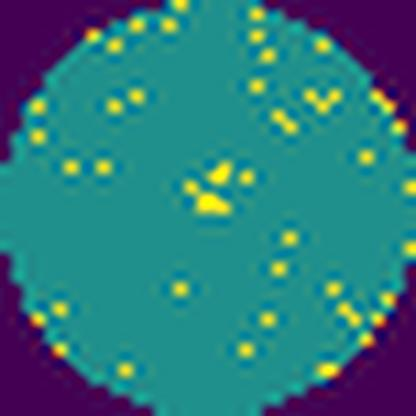Center: (175, 158, 252, 218)
